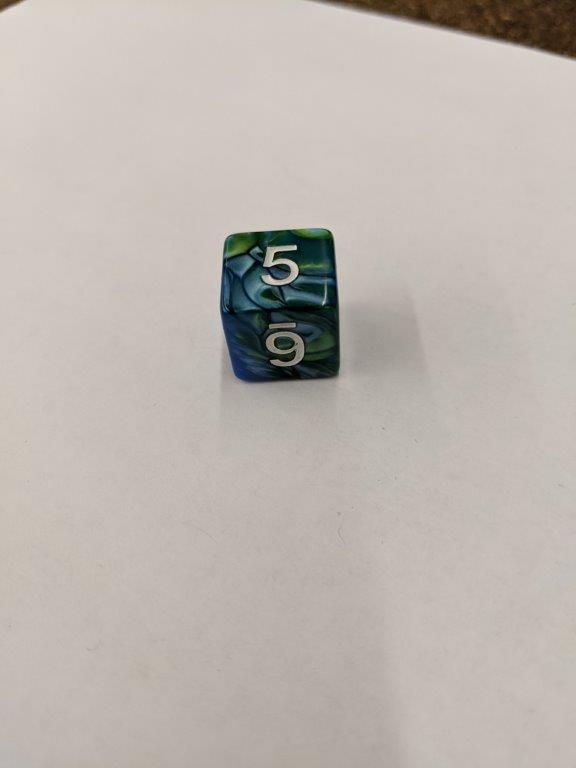d6-5: (220, 227, 342, 383)
